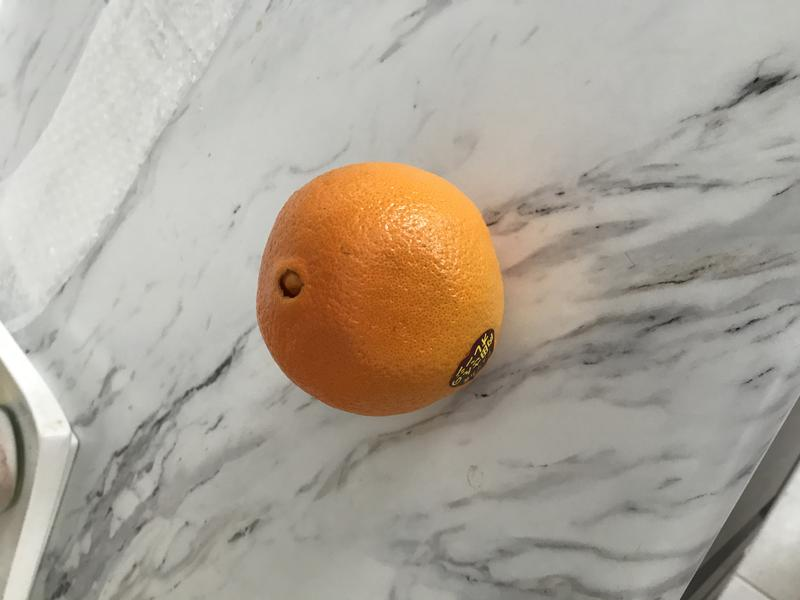orange: (242, 154, 516, 423)
